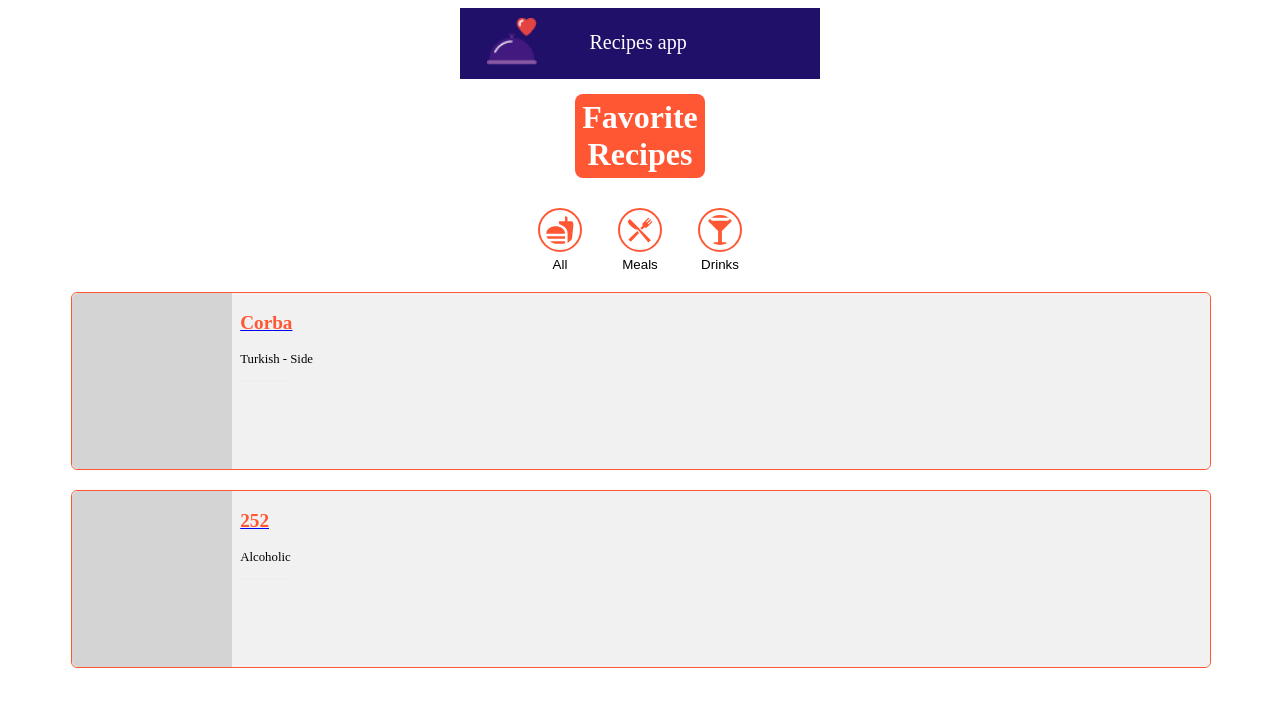
Test: Testes pagina de receitas favoritas. › 4) Verifica se ao clicar no filtro é listado apenas o que foi solicitado.
Check: the button with test id "filter-by-all-btn" is shown, box [530,208,590,272]
Check: the button with test id "filter-by-drink-btn" is shown, box [690,208,750,272]
Step 1. Click the button with test id "filter-by-meal-btn" → (640, 240), box [610,208,670,272]
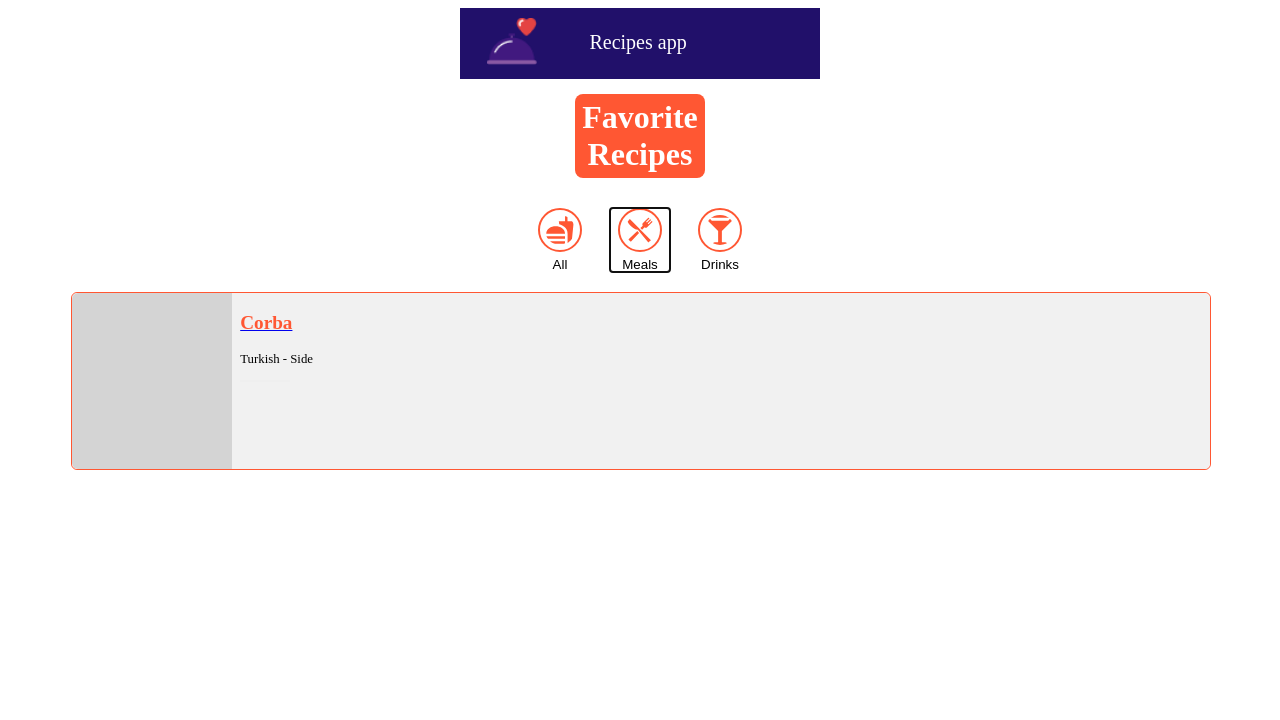
Check: the text with test id "0-horizontal-name" reads "Corba", box [240,312,292,333]
Step 2. Click the button with test id "filter-by-all-btn" → (560, 240), box [530,208,590,272]
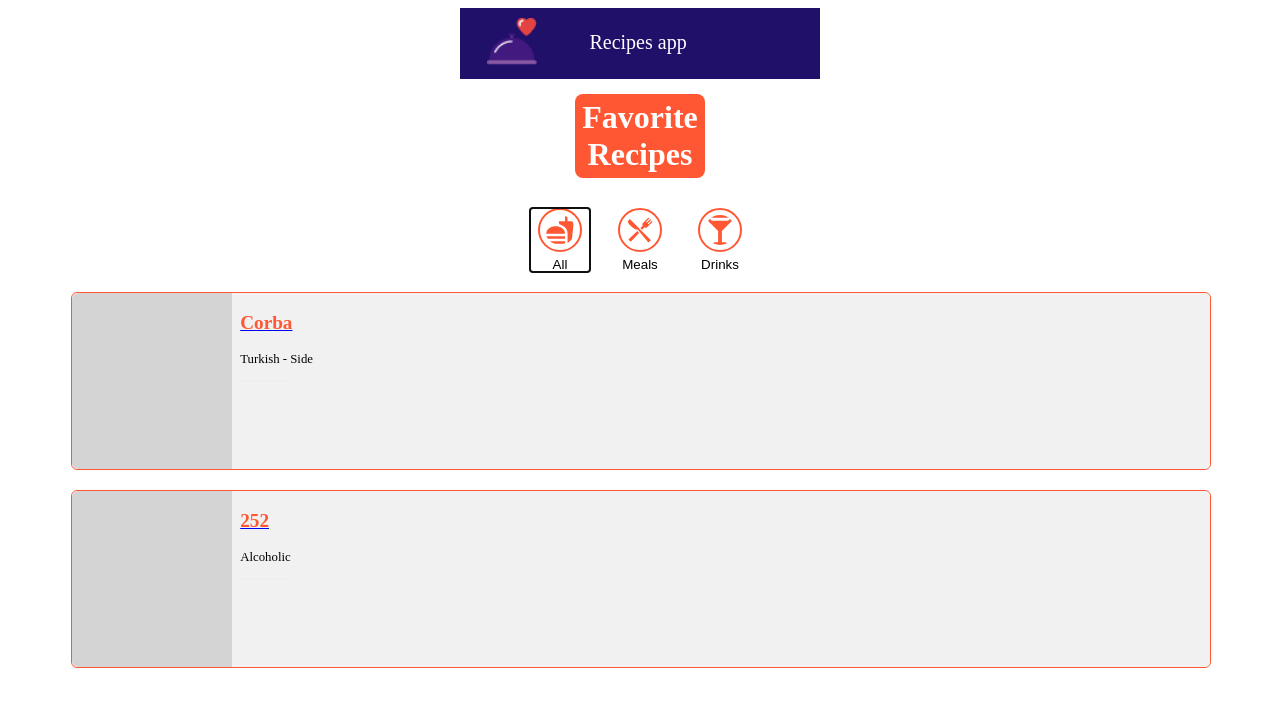
Check: the text with test id "0-horizontal-name" reads "Corba", box [240,312,292,333]
Check: the text with test id "1-horizontal-name" reads "252", box [240,510,269,531]
Step 3. Click the button with test id "filter-by-drink-btn" → (720, 240), box [690,208,750,272]
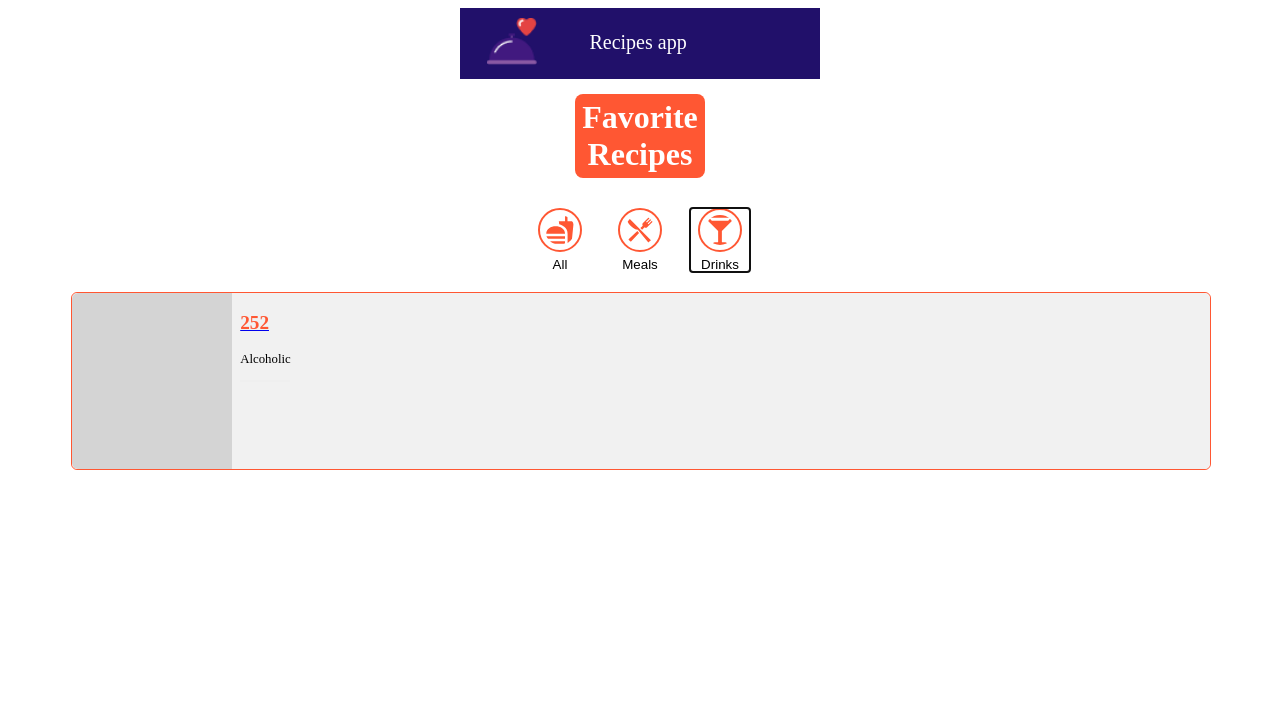
Check: the text with test id "0-horizontal-name" reads "252", box [240,312,269,333]
